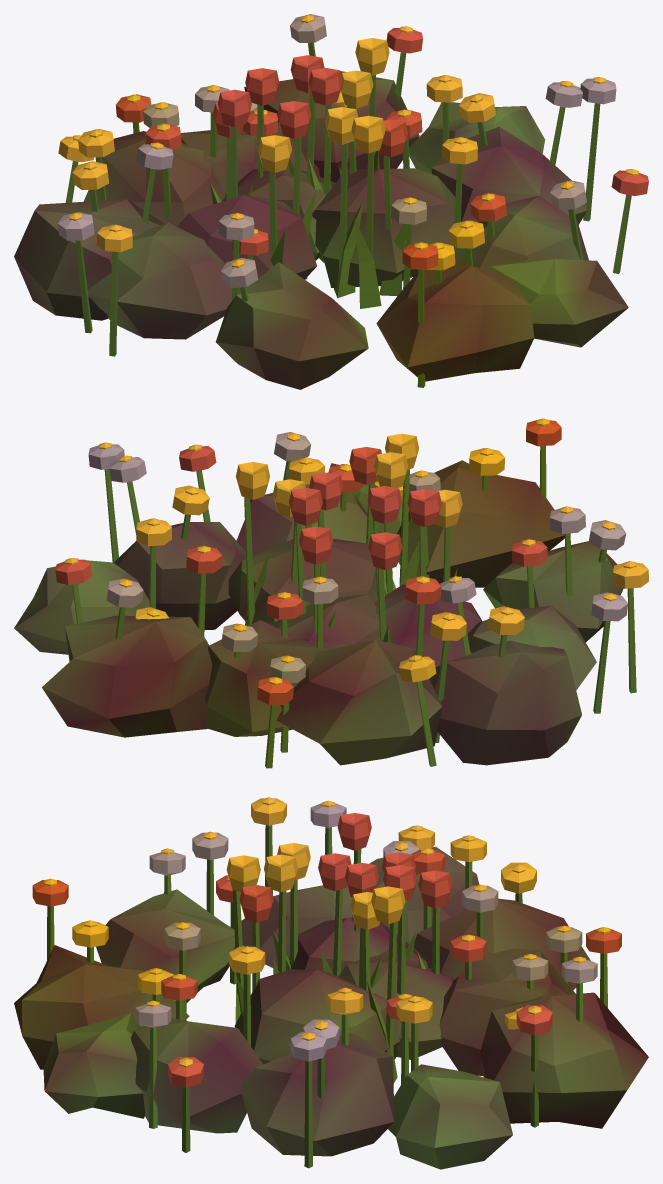
File: FlowerBed_Grass_Round_01.glb
3 renders of one model, top to bottom at view 1: azimuth 30°, elevation 25°; view 2: azimuth 150°, elevation 25°; view 3: azimuth 270°, elevation 25°, orthographic.
Parts seen in each view (by area): view 1: FlowerBed_Grass_Round_01; view 2: FlowerBed_Grass_Round_01; view 3: FlowerBed_Grass_Round_01.
Boxes of the visible parts, left/top/right/bottom form: FlowerBed_Grass_Round_01: left=14, top=14, right=648, bottom=389; FlowerBed_Grass_Round_01: left=14, top=418, right=648, bottom=768; FlowerBed_Grass_Round_01: left=14, top=797, right=648, bottom=1169.
Bounding box in the file's own units: 1.78 × 0.6512 × 1.81.
